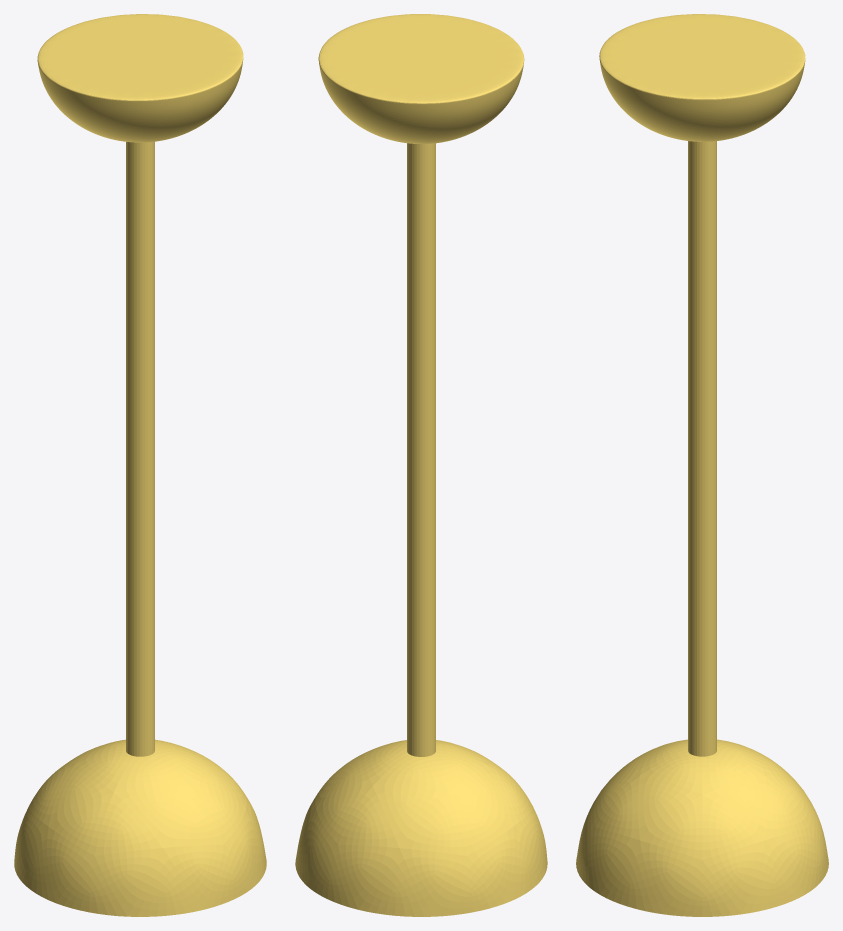
Rendered from lamp2.fbx.
The picture shows the model from 3 angles, left to right: view 1: azimuth 30°, elevation 25°; view 2: azimuth 150°, elevation 25°; view 3: azimuth 270°, elevation 25°; orthographic projection.
Parts seen in each view (by area): view 1: Sphere; view 2: Sphere; view 3: Sphere.
Boxes of the visible parts, bbox=[...] form: Sphere: bbox=[14, 14, 266, 916]; Sphere: bbox=[295, 14, 547, 916]; Sphere: bbox=[576, 14, 828, 916].
Size of the model in its own units: 60.8 by 215 by 60.83.
